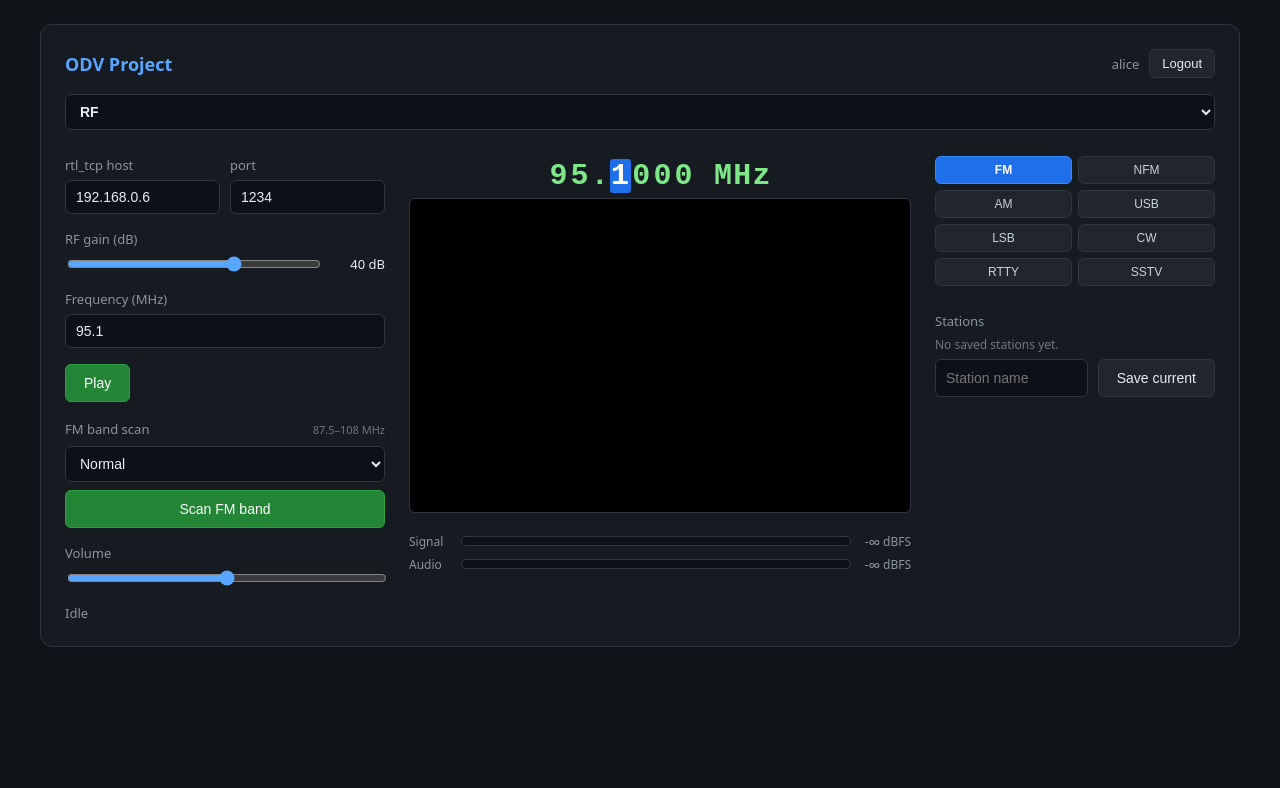
App › selects the tuning step by clicking a digit on the frequency readout and highlights it
Expected: the text "Stations" is shown, [935,312,984,330]
Click the button "NFM".
click(1146, 170)  # box [1078,156,1215,184]
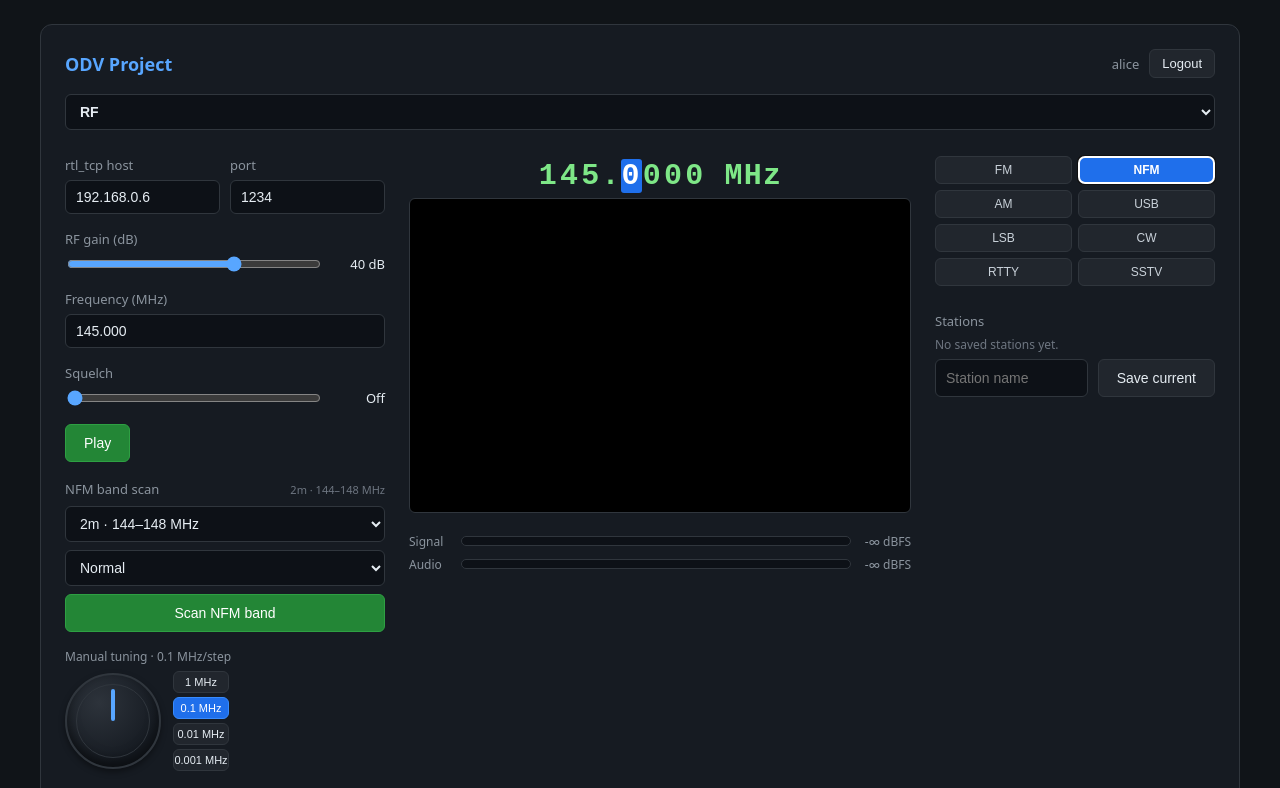
Now the text "NFM band scan" is shown, box [65,480,159,498]
Click the 6th text with class "tuned-digit".
click(674, 176)  # box [663,159,684,193]
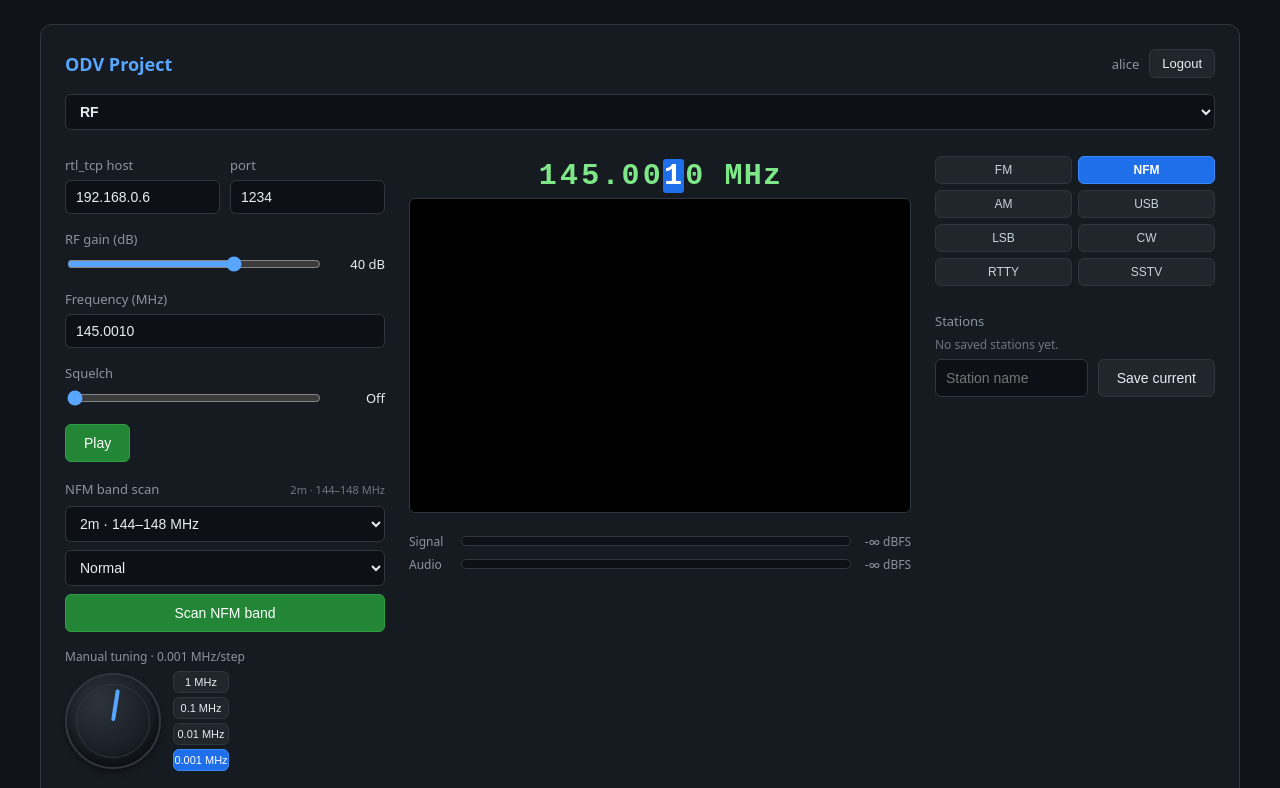
Now the element with class "tuned-freq" reads "145.0010 MHz", box [539,159,782,193]
